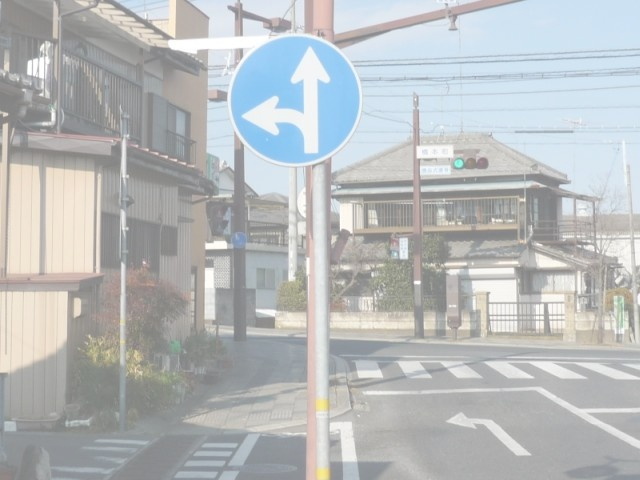Direction_sign: (218, 29, 368, 176)
